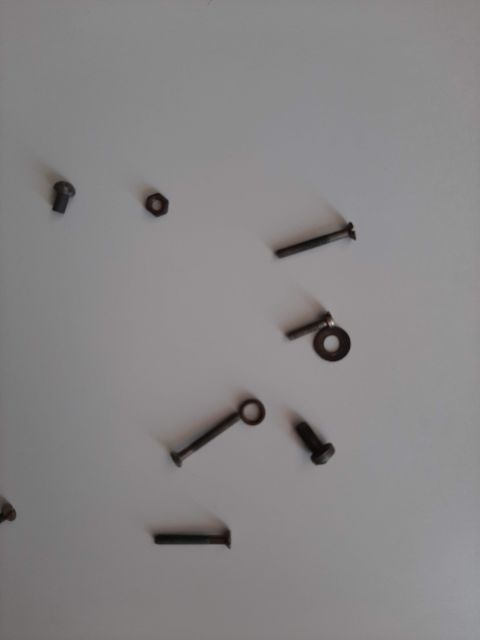nakretka: (125, 175, 185, 215)
podkladka: (295, 305, 355, 365), (235, 385, 275, 425)
sruba: (245, 205, 355, 275), (125, 505, 245, 565), (275, 395, 355, 475), (175, 395, 245, 475), (35, 155, 95, 235), (265, 305, 325, 355)
